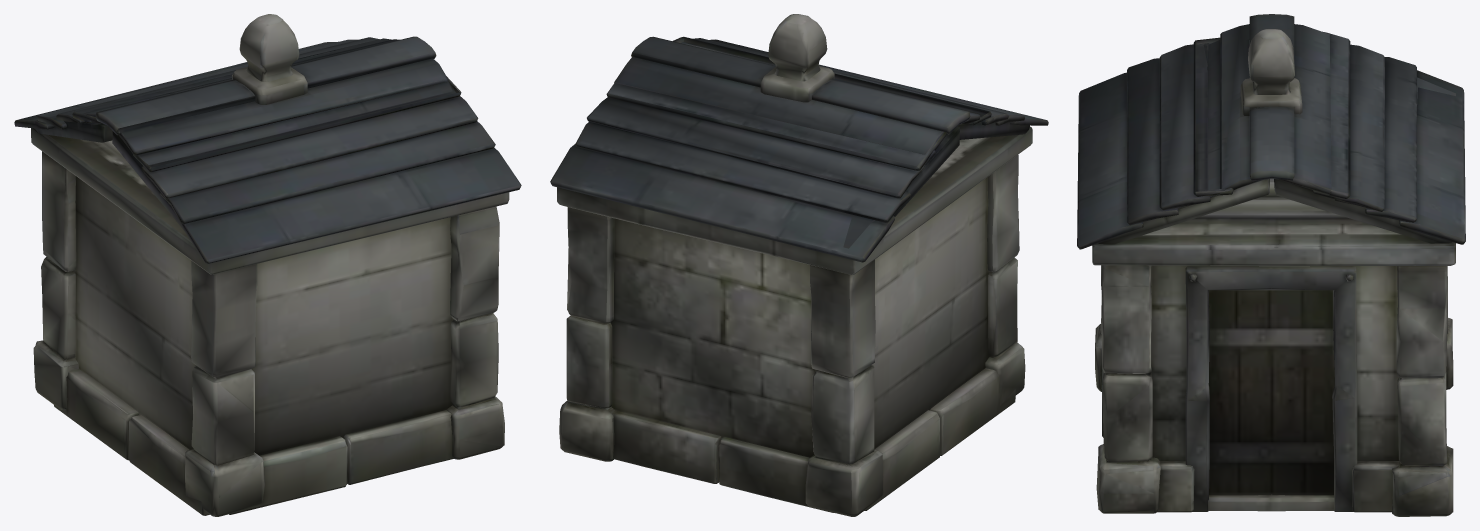
The model's file is graveyard_crypt.glb.
The picture shows the model from 3 angles, left to right: view 1: azimuth 30°, elevation 25°; view 2: azimuth 150°, elevation 25°; view 3: azimuth 270°, elevation 25°; orthographic projection.
Visible parts, largest first — view 1: model; view 2: model; view 3: model.
Part boxes in pixels (x1,y1,x2,y2): model: [14, 14, 521, 516]; model: [550, 14, 1048, 516]; model: [1077, 14, 1465, 516].
Size of the model in its own units: 0.8239 by 1 by 0.8552.
Materials: 1 (1 with a texture image).
